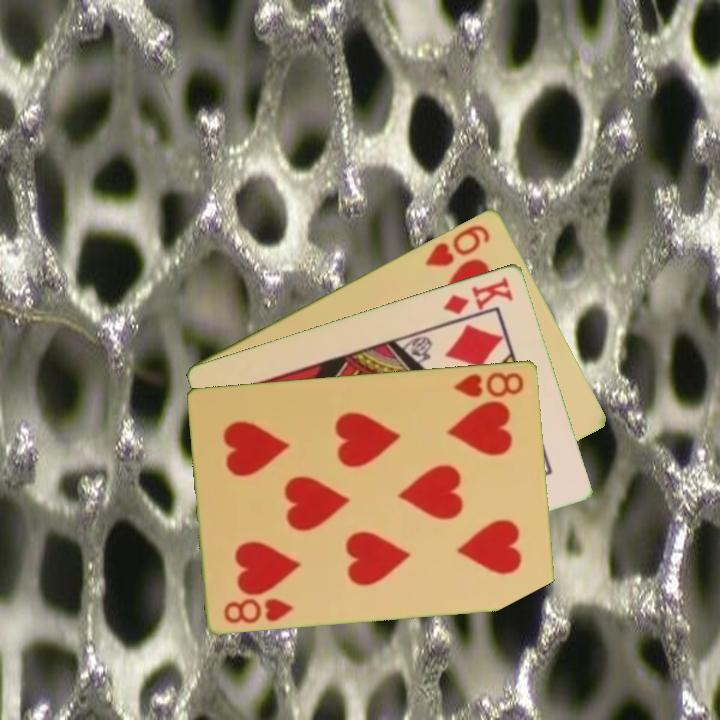6h: (422, 220, 493, 269)
8h: (450, 368, 527, 400), (220, 594, 297, 626)
Kd: (439, 272, 517, 317)
